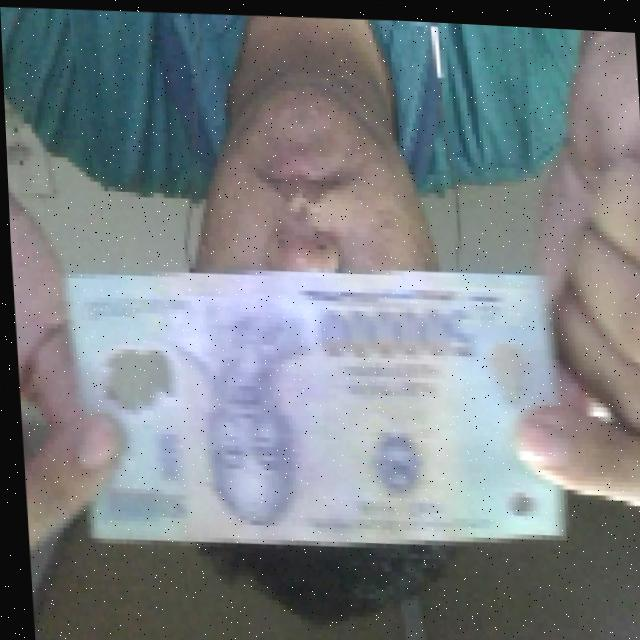500 000 VND: (53, 243, 573, 570)
